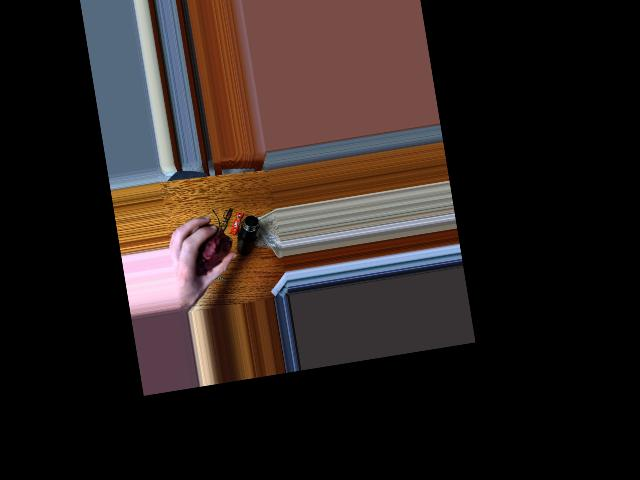onion: (188, 225, 232, 277)
